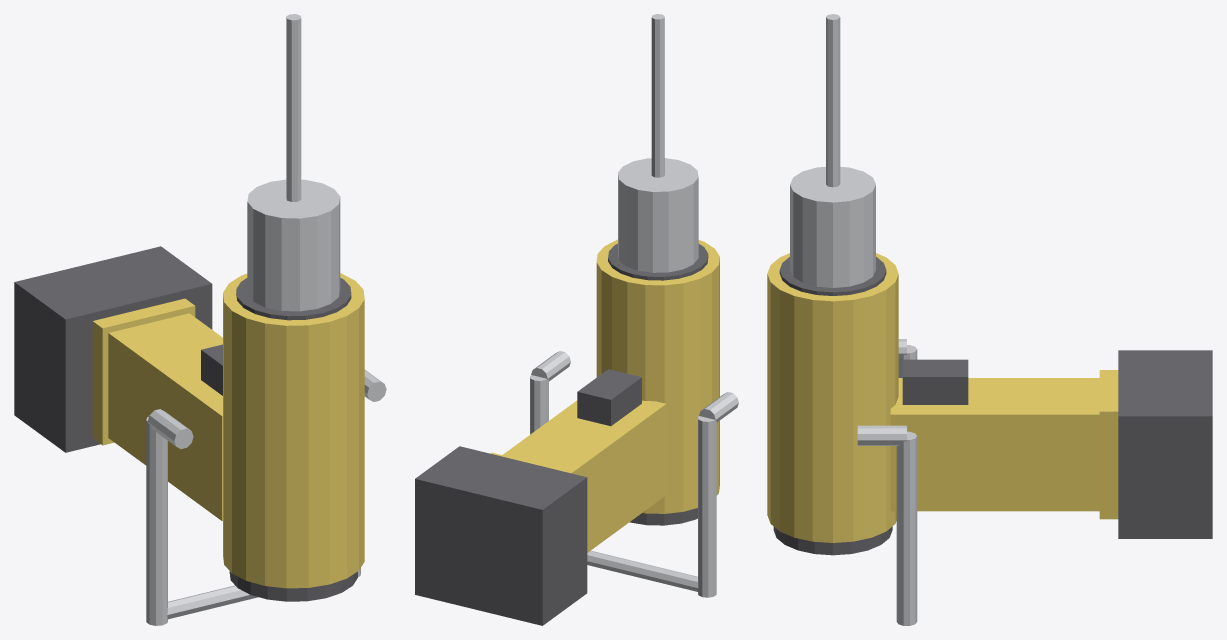
File: drill.glb
3 renders of one model, left to right at view 1: azimuth 30°, elevation 25°; view 2: azimuth 150°, elevation 25°; view 3: azimuth 270°, elevation 25°, orthographic. The views are drawn at different scales.
Parts seen in each view (by area): view 1: tool_yellow, metal_black, steel; view 2: tool_yellow, metal_black, steel; view 3: tool_yellow, metal_black, steel.
Part boxes in pixels (x1,y1,x2,y2): tool_yellow: [92, 273, 364, 588]; metal_black: [14, 246, 357, 601]; steel: [146, 14, 386, 625]; tool_yellow: [491, 239, 719, 552]; metal_black: [415, 243, 708, 625]; steel: [530, 14, 738, 597]; tool_yellow: [767, 253, 1118, 542]; metal_black: [773, 257, 1212, 555]; steel: [790, 14, 917, 625].
Bounding box in the file's own units: 0.11 × 0.302 × 0.217.
